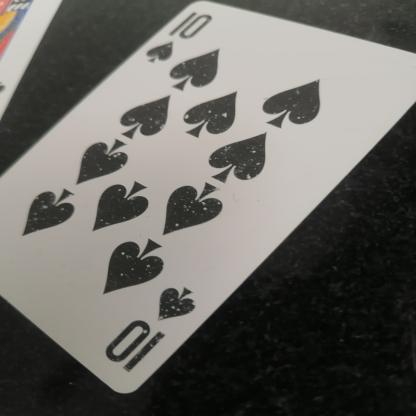10S: (94, 282, 216, 376), (135, 5, 217, 70)
